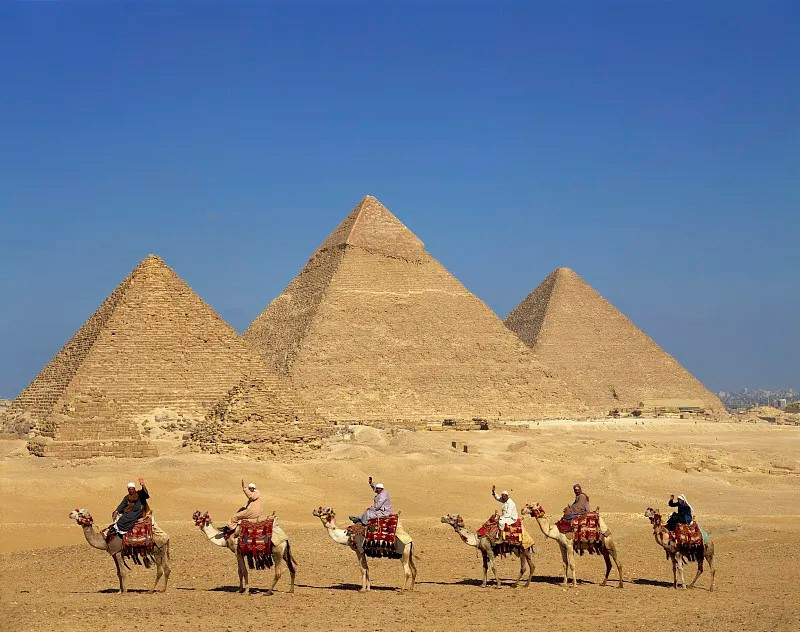Pyramid: (242, 196, 596, 422), (8, 256, 340, 438), (500, 267, 729, 419), (181, 376, 332, 453), (29, 389, 160, 459)
